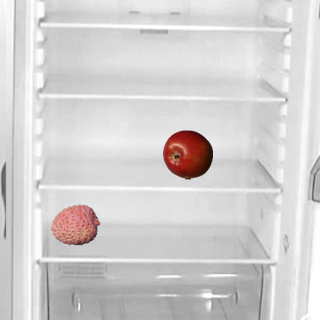Apple Braeburn: (162, 129, 212, 179)
Lychee: (50, 199, 100, 249)
